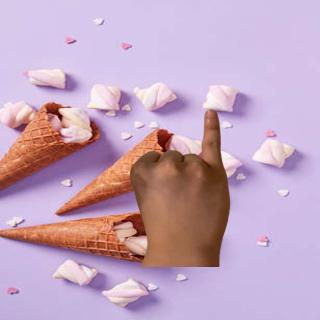FINE: (125, 105, 236, 262)
